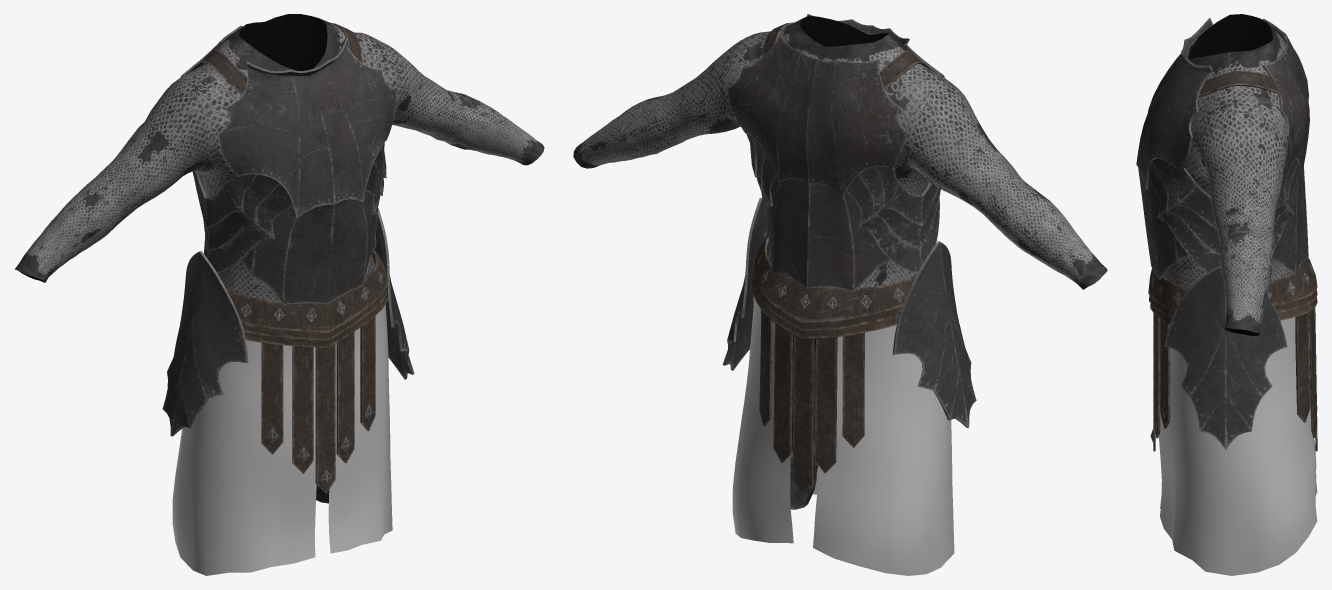
The model's file is sk_uruk_mordor_chainmail_heavy_b2.fbx.
3 renders of one model, left to right at view 1: azimuth 30°, elevation 25°; view 2: azimuth 150°, elevation 25°; view 3: azimuth 270°, elevation 25°, orthographic. The views are drawn at different scales.
Parts seen in each view (by area): view 1: sk_uruk_mordor_chainmail_heavy_b2.3, sk_uruk_mordor_chainmail_heavy_b2.2, sk_uruk_mordor_chainmail_heavy_b2.0, sk_uruk_mordor_chainmail_heavy_b2.1, sk_uruk_mordor_chainmail_heavy_b2.4; view 2: sk_uruk_mordor_chainmail_heavy_b2.3, sk_uruk_mordor_chainmail_heavy_b2.0, sk_uruk_mordor_chainmail_heavy_b2.2, sk_uruk_mordor_chainmail_heavy_b2.1, sk_uruk_mordor_chainmail_heavy_b2.4; view 3: sk_uruk_mordor_chainmail_heavy_b2.2, sk_uruk_mordor_chainmail_heavy_b2.0, sk_uruk_mordor_chainmail_heavy_b2.3, sk_uruk_mordor_chainmail_heavy_b2.4, sk_uruk_mordor_chainmail_heavy_b2.1.
Boxes of the visible parts, box(x1,y1,x2,y2) form: sk_uruk_mordor_chainmail_heavy_b2.3: box(180, 17, 396, 304); sk_uruk_mordor_chainmail_heavy_b2.2: box(172, 304, 392, 575); sk_uruk_mordor_chainmail_heavy_b2.0: box(15, 14, 544, 503); sk_uruk_mordor_chainmail_heavy_b2.1: box(202, 23, 388, 493); sk_uruk_mordor_chainmail_heavy_b2.4: box(162, 208, 414, 436); sk_uruk_mordor_chainmail_heavy_b2.3: box(727, 14, 944, 292); sk_uruk_mordor_chainmail_heavy_b2.0: box(573, 15, 1107, 509); sk_uruk_mordor_chainmail_heavy_b2.2: box(732, 296, 954, 575); sk_uruk_mordor_chainmail_heavy_b2.1: box(751, 22, 924, 493); sk_uruk_mordor_chainmail_heavy_b2.4: box(722, 198, 976, 427); sk_uruk_mordor_chainmail_heavy_b2.2: box(1159, 317, 1317, 575); sk_uruk_mordor_chainmail_heavy_b2.0: box(1163, 14, 1290, 335); sk_uruk_mordor_chainmail_heavy_b2.3: box(1136, 18, 1309, 279); sk_uruk_mordor_chainmail_heavy_b2.4: box(1164, 265, 1287, 449); sk_uruk_mordor_chainmail_heavy_b2.1: box(1148, 70, 1317, 451).
Bounding box in the file's own units: 1.37 × 0.4256 × 1.29.
